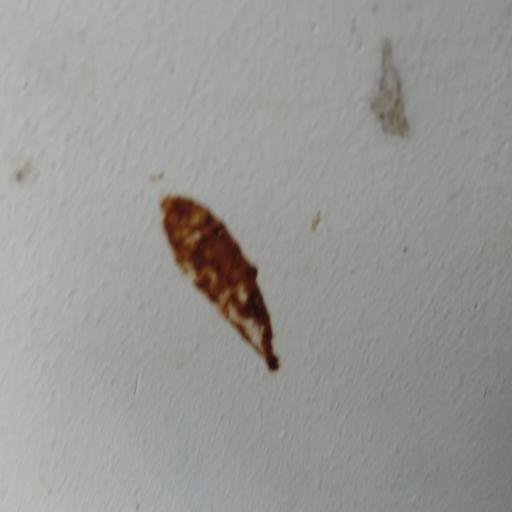stain: (114, 146, 349, 406)
